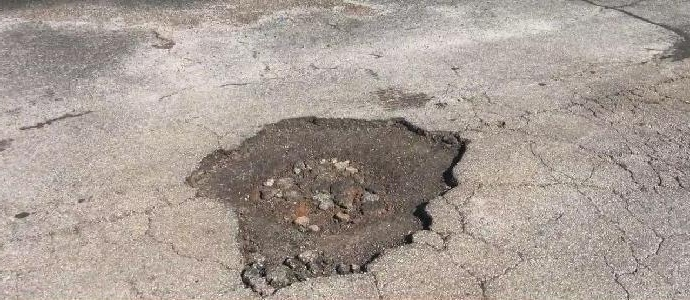pothole: (180, 107, 473, 294)
